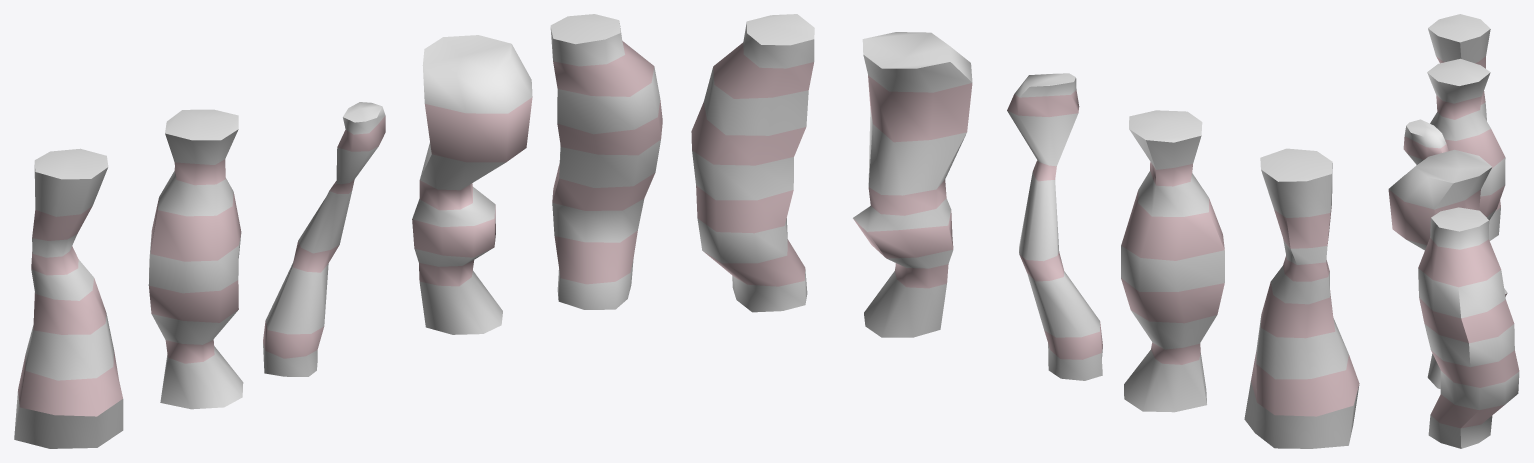
Rendered from Cave pillers.fbx.
3 renders of one model, left to right at view 1: azimuth 30°, elevation 25°; view 2: azimuth 150°, elevation 25°; view 3: azimuth 270°, elevation 25°, orthographic. The views are drawn at different scales.
Visible parts, largest first — view 1: Cave Piller 5, Cave Piller 4, Cave Piller 1, Cave Piller 2, Cave Piller 3; view 2: Cave Piller 5, Cave Piller 4, Cave Piller 2, Cave Piller 1, Cave Piller 3; view 3: Cave Piller 5, Cave Piller 4, Cave Piller 2, Cave Piller 1, Cave Piller 3.
Boxes of the visible parts, <box> form: Cave Piller 5: <box>550,14,662,309</box>; Cave Piller 4: <box>412,35,532,334</box>; Cave Piller 1: <box>14,148,123,448</box>; Cave Piller 2: <box>148,109,243,409</box>; Cave Piller 3: <box>263,102,385,376</box>; Cave Piller 5: <box>691,14,814,312</box>; Cave Piller 4: <box>853,32,972,337</box>; Cave Piller 2: <box>1121,110,1224,412</box>; Cave Piller 1: <box>1244,148,1359,448</box>; Cave Piller 3: <box>1007,73,1102,380</box>; Cave Piller 5: <box>1418,207,1519,448</box>; Cave Piller 4: <box>1388,149,1507,388</box>; Cave Piller 2: <box>1416,58,1505,220</box>; Cave Piller 1: <box>1428,14,1500,240</box>; Cave Piller 3: <box>1403,119,1448,164</box>.
Size of the model in its own units: 2492 by 1029 by 548.
